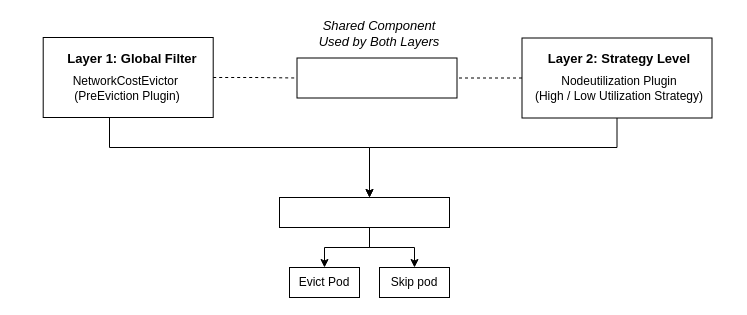
Image size: 747x315. Some labels were removed from this diagram. Here are the shapes that lost their labels. From the top down, the centre of each, then its label:
At (376,77): "Network Cost Model".
At (364,212): "Eviction Decision Logic".
